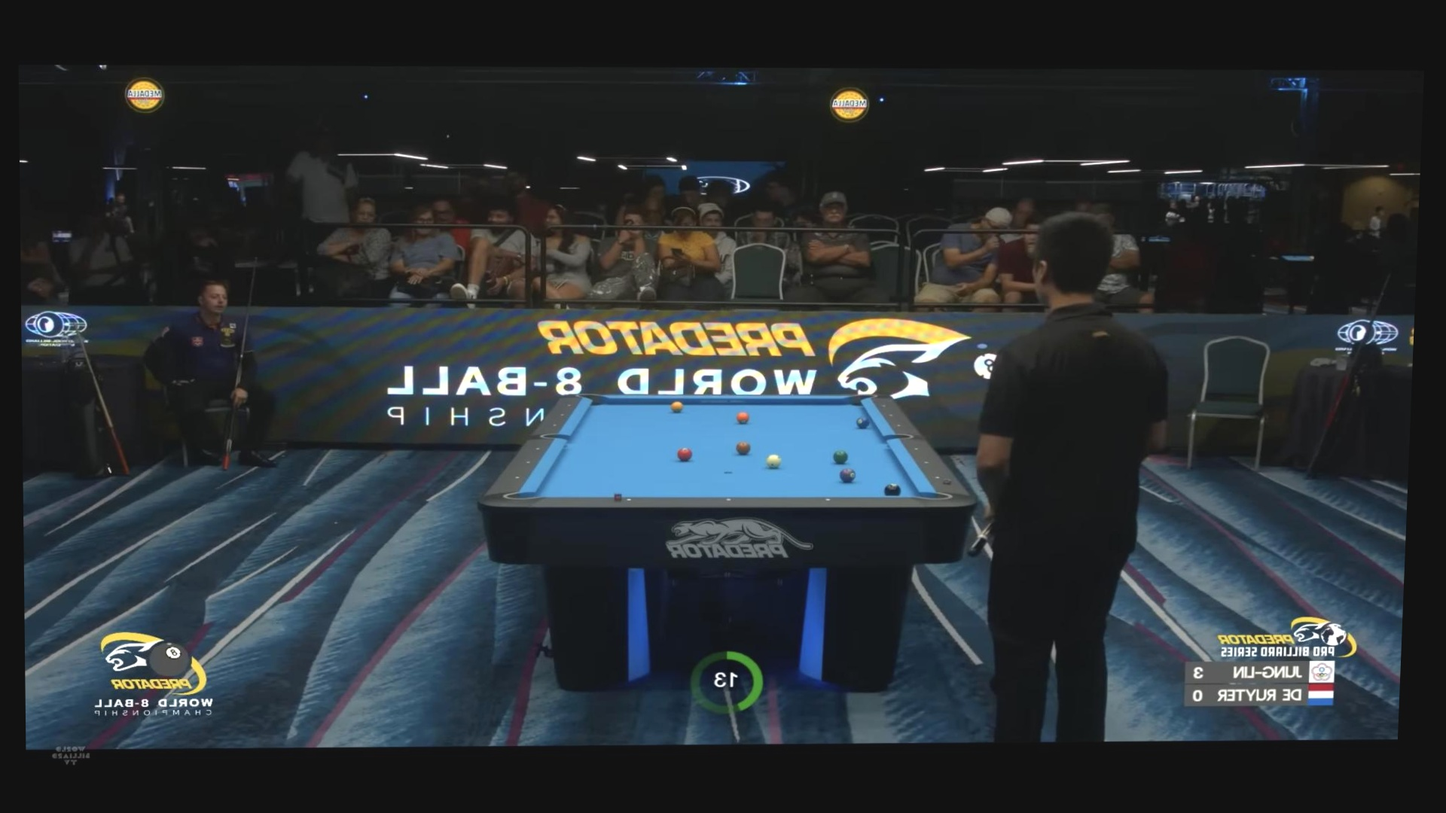Black: (884, 483, 901, 497)
Cue: (766, 454, 781, 469)
Solid: (626, 497, 632, 502), (726, 497, 731, 502), (515, 475, 520, 480), (536, 446, 541, 451), (826, 498, 831, 502), (526, 460, 531, 464), (914, 447, 919, 451), (888, 413, 893, 417), (881, 404, 886, 408), (935, 476, 939, 480), (924, 461, 929, 464), (553, 424, 557, 427), (560, 413, 564, 416), (567, 404, 571, 407), (897, 424, 901, 427), (792, 394, 795, 397), (725, 393, 728, 396)
Striped: (839, 468, 856, 483), (833, 449, 849, 464), (677, 447, 693, 462), (736, 441, 751, 455), (856, 416, 870, 428), (736, 412, 749, 424), (671, 401, 683, 413)
